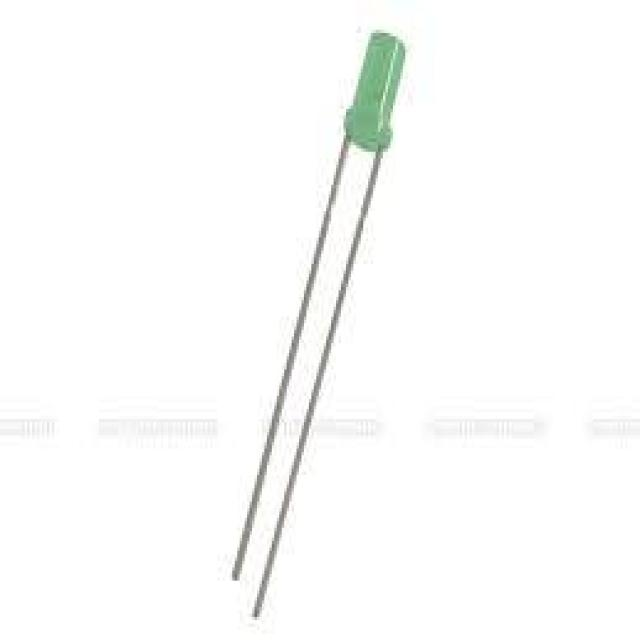Led: (234, 32, 405, 615)
